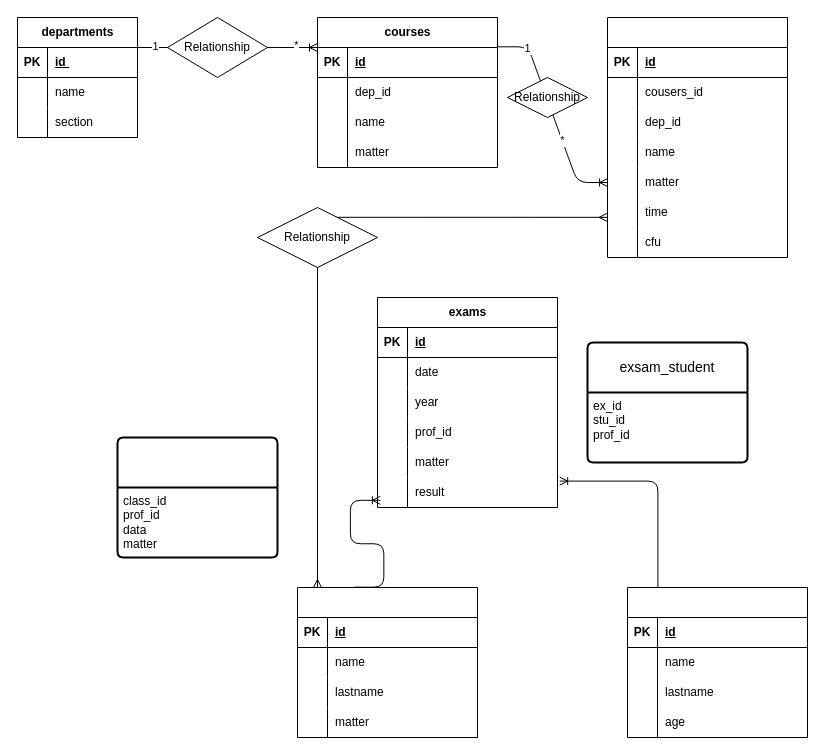
Image size: 825x755. Some labels were removed from this diagram. The shapes that lost their labels are listed below. From the top down, each one's box as (x1, y1, x2, y2) in pixels, then its label:
(606, 16, 788, 258): classes
(116, 436, 278, 558): class_prof
(296, 586, 478, 738): profs
(626, 586, 808, 738): students
